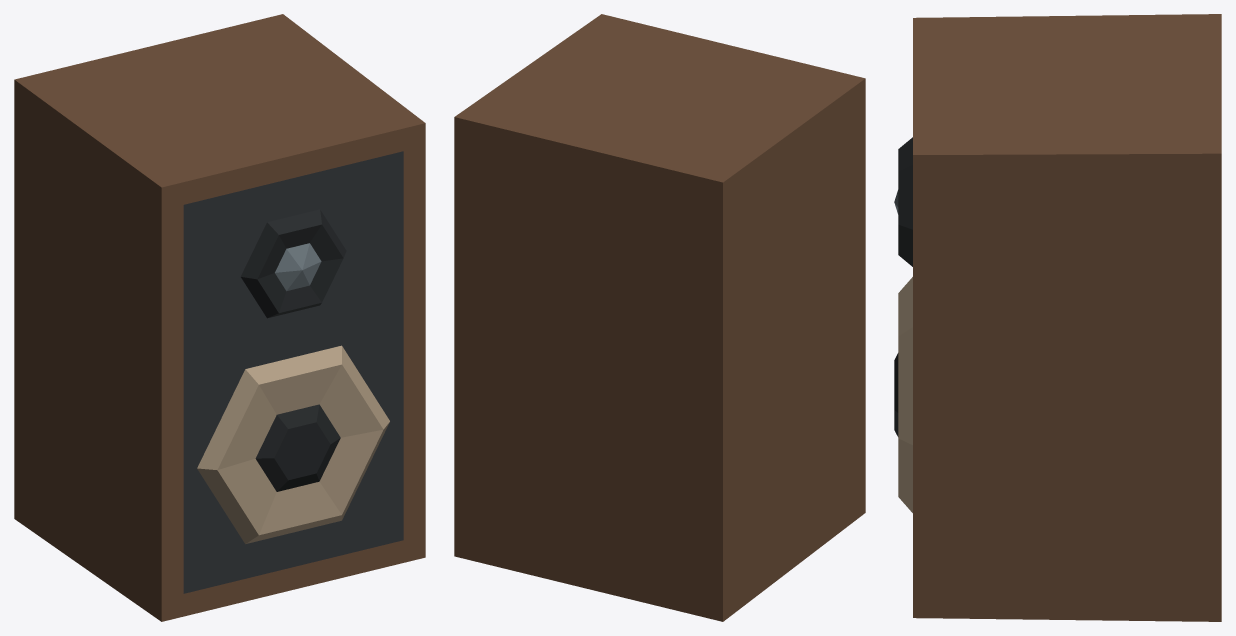
The model's file is SM_Prop_Electronics_Speaker_03.glb.
3 views of the same model, side by side, from view 1: azimuth 30°, elevation 25°; view 2: azimuth 150°, elevation 25°; view 3: azimuth 270°, elevation 25° (orthographic). The views are drawn at different scales.
Visible parts, largest first — view 1: SM_Prop_Electronics_Speaker_03; view 2: SM_Prop_Electronics_Speaker_03; view 3: SM_Prop_Electronics_Speaker_03.
Part boxes in pixels (x1,y1,x2,y2): SM_Prop_Electronics_Speaker_03: (14,14,425,621); SM_Prop_Electronics_Speaker_03: (454,14,865,621); SM_Prop_Electronics_Speaker_03: (894,14,1221,621).
Size of the model in its own units: 0.309 by 0.4827 by 0.3061.
Materials: 1 (1 with a texture image).
